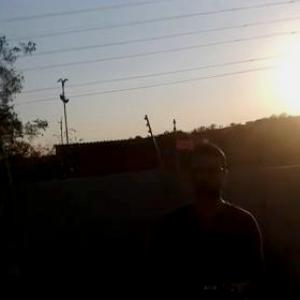follow: (151, 136, 272, 299)
